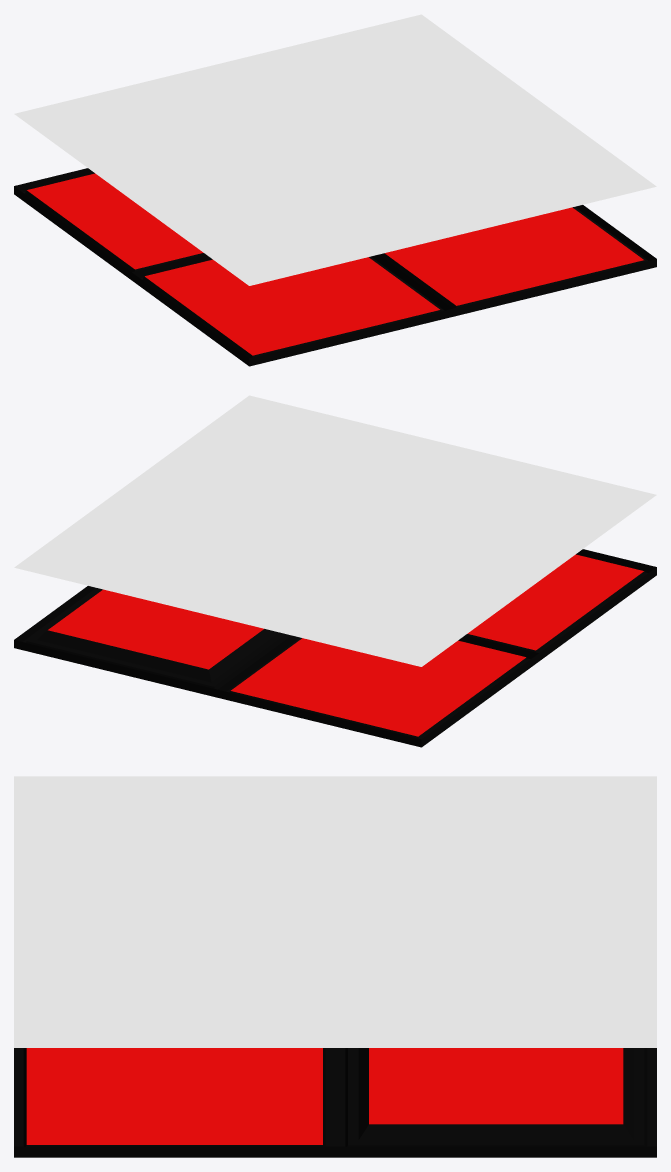
File: SM_Shop_Roof.FBX
The picture shows the model from 3 angles, top to bottom: view 1: azimuth 30°, elevation 25°; view 2: azimuth 150°, elevation 25°; view 3: azimuth 270°, elevation 25°; orthographic projection. The views are drawn at different scales.
Visible parts, largest first — view 1: SM_Shop_Roof; view 2: SM_Shop_Roof; view 3: SM_Shop_Roof.
Boxes of the visible parts, x1=… form: SM_Shop_Roof: x1=14, y1=14, x2=656, y2=366; SM_Shop_Roof: x1=14, y1=395, x2=656, y2=747; SM_Shop_Roof: x1=14, y1=776, x2=656, y2=1157.
Bounding box in the file's own units: 300 × 300 × 56.53.
